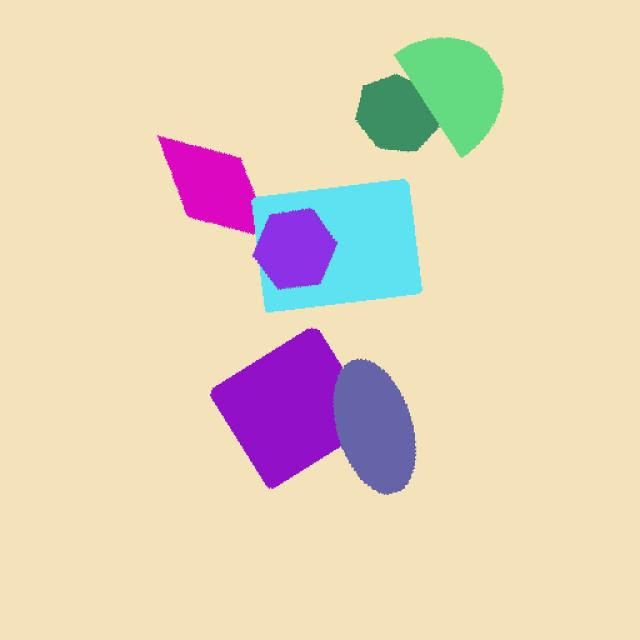Heptagon: (336, 62, 474, 166)
Hexagon: (251, 208, 350, 296)
Kite: (118, 120, 310, 268)
Rectangle: (225, 175, 467, 324)
Semicircle: (307, 342, 433, 506), (392, 28, 529, 162)
square: (192, 322, 378, 497)
